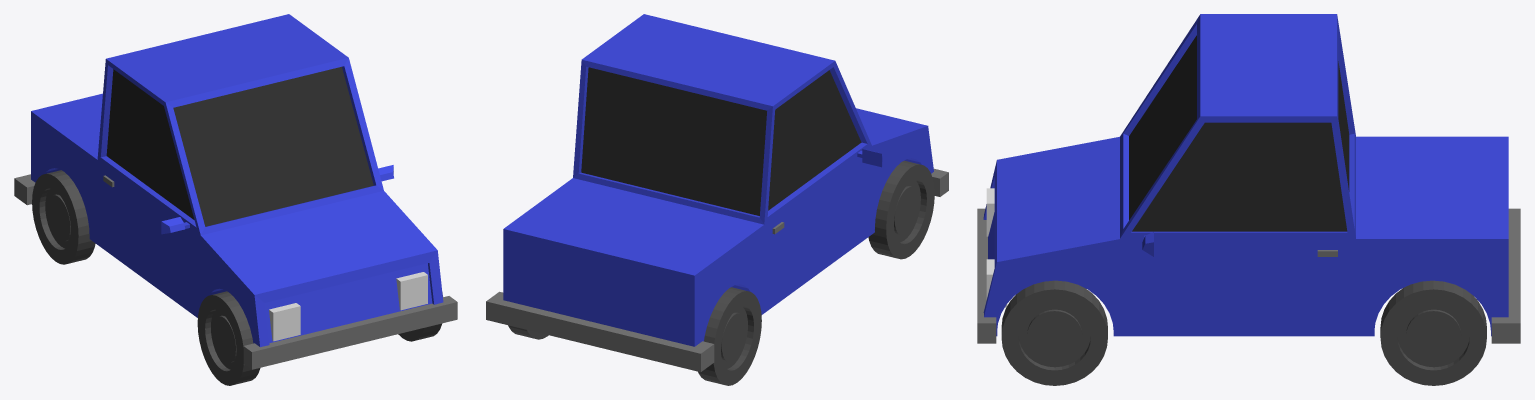
The model's file is BasicCar.fbx.
3 renders of one model, left to right at view 1: azimuth 30°, elevation 25°; view 2: azimuth 150°, elevation 25°; view 3: azimuth 270°, elevation 25°, orthographic. The views are drawn at different scales.
Parts seen in each view (by area): view 1: car body, wheel, Cube, Cube.003, Cube.002, Cube.001; view 2: car body, wheel, Cube.001, Cube; view 3: car body, wheel, Cube.001, Cube, Cube.003.
Boxes of the visible parts, bbox=[...] form: car body: bbox=[31, 14, 443, 347]; wheel: bbox=[32, 170, 442, 385]; Cube: bbox=[243, 296, 457, 369]; Cube.003: bbox=[269, 272, 427, 341]; Cube.002: bbox=[161, 165, 393, 234]; Cube.001: bbox=[14, 174, 35, 205]; car body: bbox=[503, 14, 933, 346]; wheel: bbox=[508, 160, 934, 385]; Cube.001: bbox=[486, 291, 714, 372]; Cube: bbox=[931, 168, 948, 196]; car body: bbox=[983, 14, 1508, 336]; wheel: bbox=[1001, 280, 1486, 385]; Cube.001: bbox=[1491, 208, 1520, 343]; Cube: bbox=[977, 208, 996, 343]; Cube.003: bbox=[986, 188, 1007, 307].
Bounding box in the file's own units: 253 × 242 × 449.
